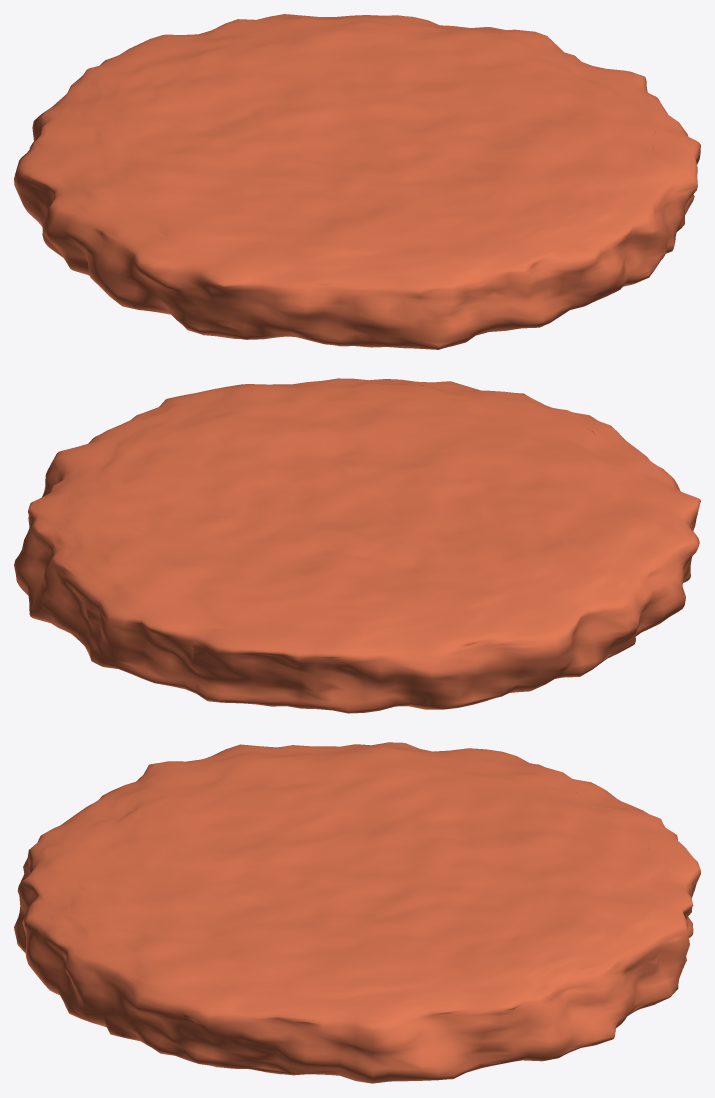
The model's file is rawpatty.fbx.
The picture shows the model from 3 angles, top to bottom: view 1: azimuth 30°, elevation 25°; view 2: azimuth 150°, elevation 25°; view 3: azimuth 270°, elevation 25°; orthographic projection.
Visible parts, largest first — view 1: Cylinder.006; view 2: Cylinder.006; view 3: Cylinder.006.
Boxes of the visible parts, box(x1,y1,x2,y2) form: Cylinder.006: box(14, 14, 700, 349); Cylinder.006: box(14, 378, 700, 713); Cylinder.006: box(14, 742, 700, 1083).
Bounding box in the file's own units: 103 × 14.88 × 102.
